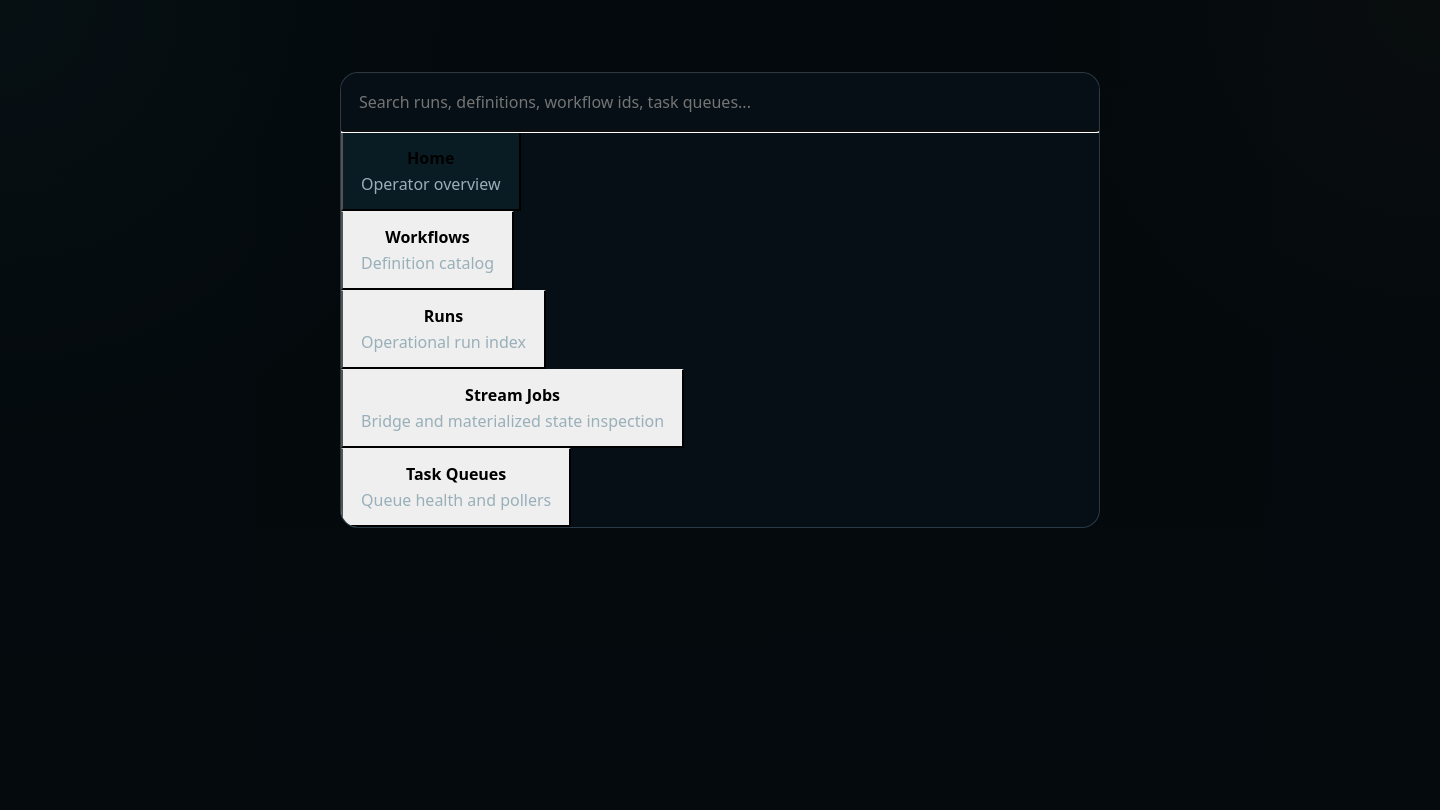
Test: shows remote search results
In the field with placeholder "Search runs, definitions, workflow ids, task queues...": (720, 102) [341,73,1099,131], type "payment"
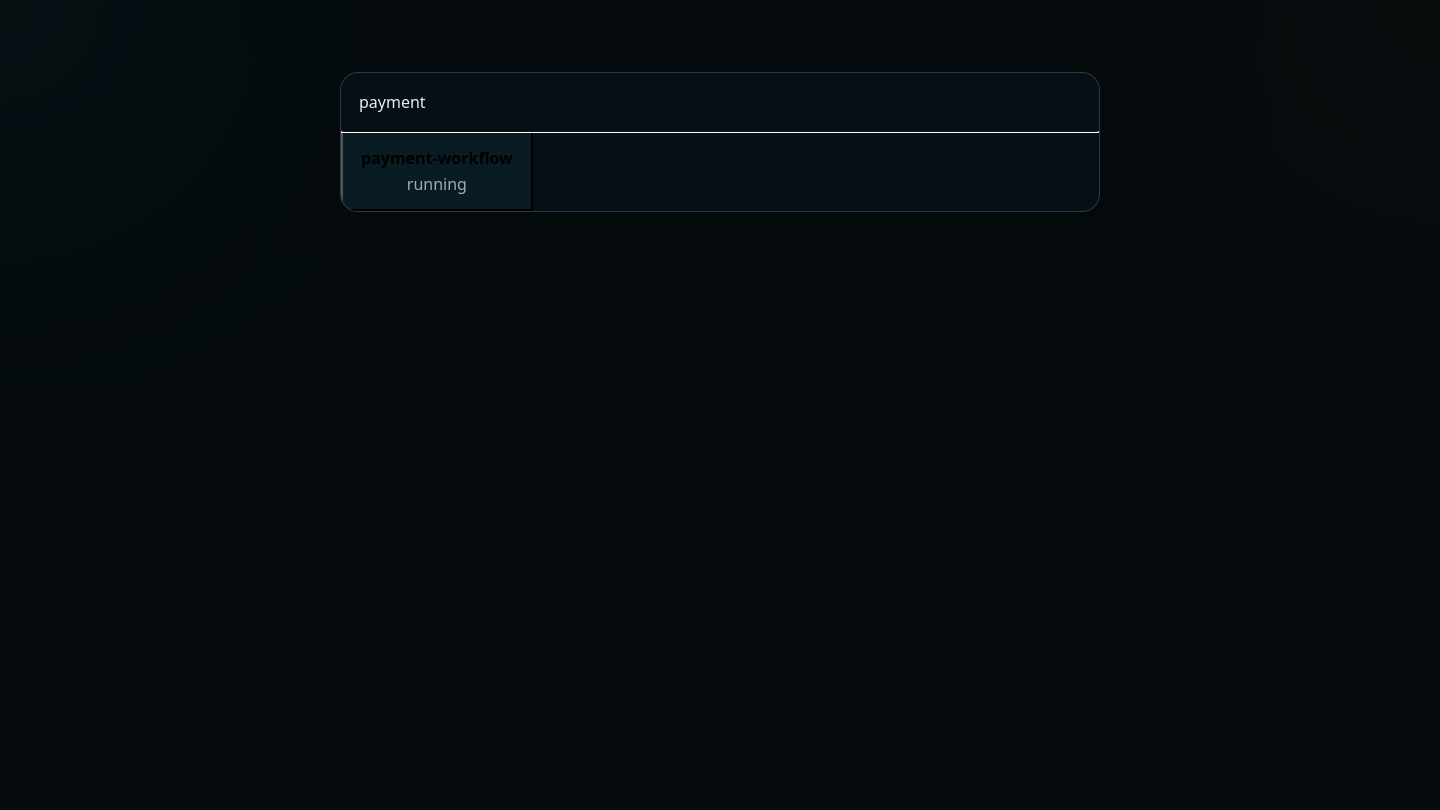
Expected: the text "payment-workflow" is shown, [361,147,513,169]
